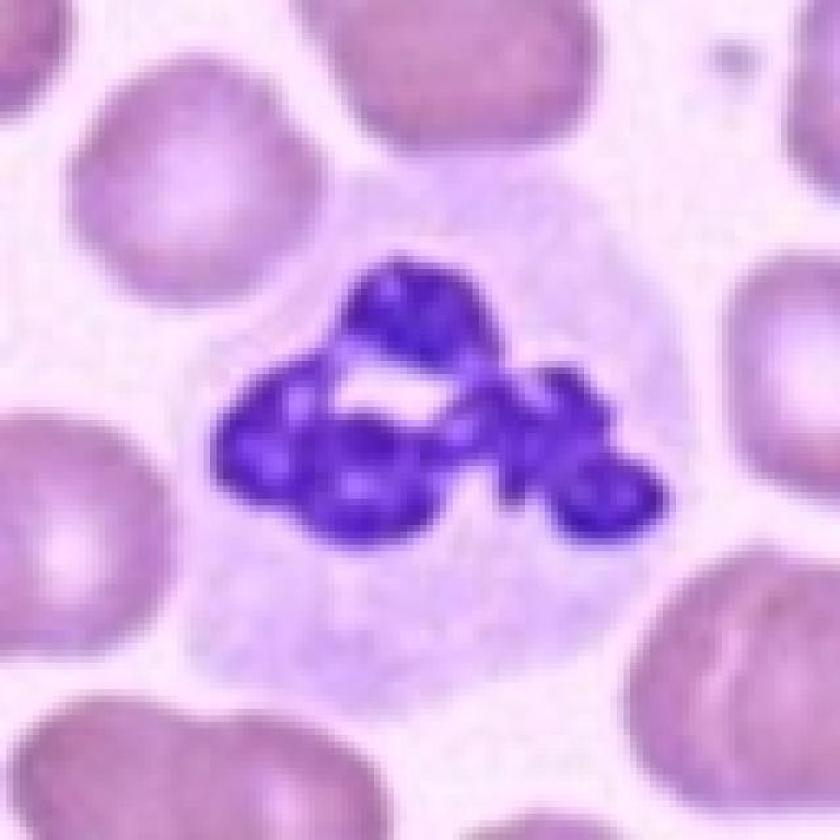neutrophil: (106, 80, 774, 756)
